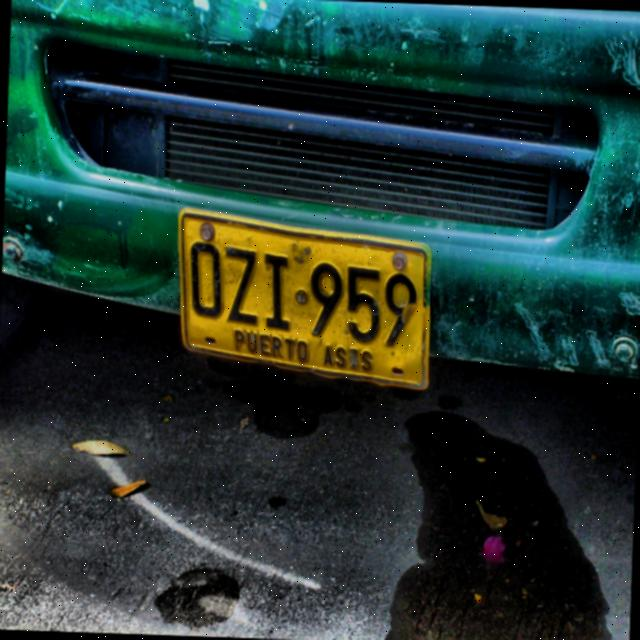plate: (178, 206, 432, 392)
